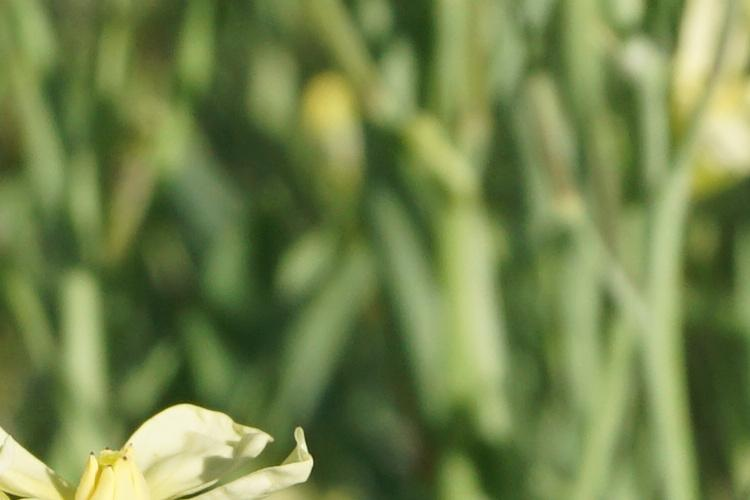white: (4, 414, 328, 500)
